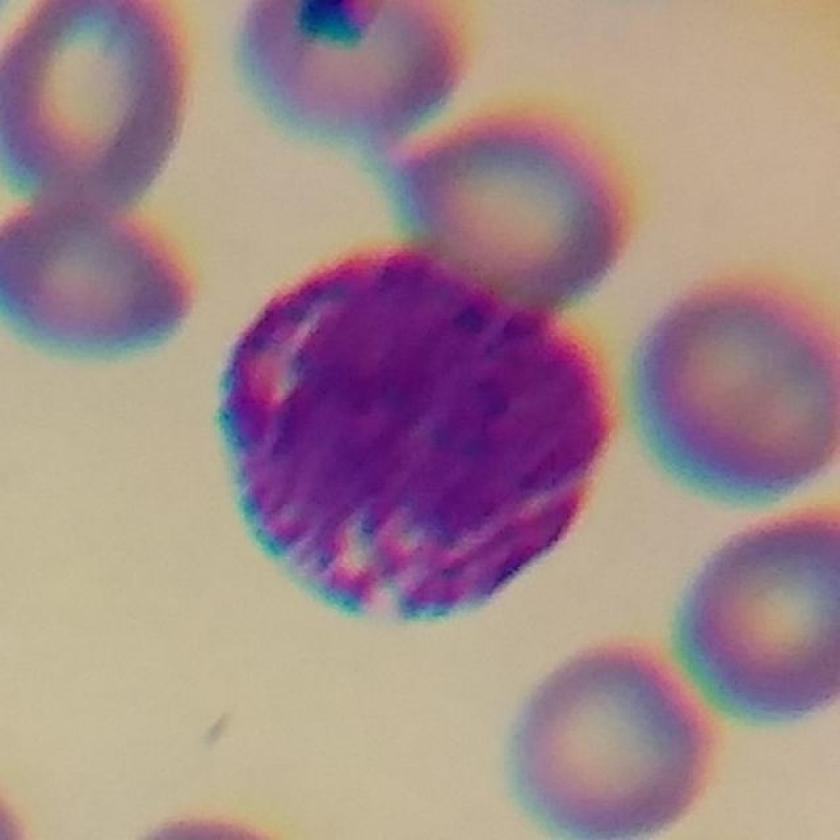basophil: (208, 240, 626, 635)
